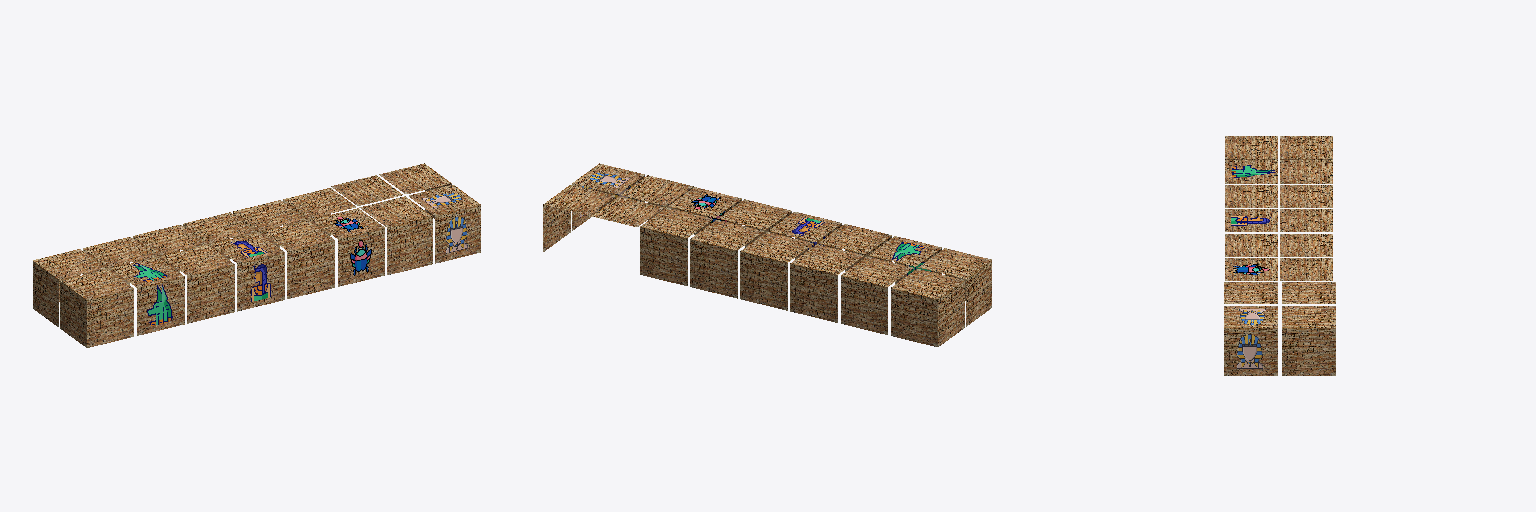
3 renders of one model, left to right at view 1: azimuth 30°, elevation 25°; view 2: azimuth 150°, elevation 25°; view 3: azimuth 270°, elevation 25°, orthographic.
Parts seen in each view (by area): view 1: laberintoCompletoEgipto_Box763; view 2: laberintoCompletoEgipto_Box763; view 3: laberintoCompletoEgipto_Box763.
Part boxes in pixels (left/top/right/bottom): laberintoCompletoEgipto_Box763: left=33, top=163, right=480, bottom=347; laberintoCompletoEgipto_Box763: left=543, top=163, right=991, bottom=346; laberintoCompletoEgipto_Box763: left=1224, top=136, right=1335, bottom=375.
Size of the model in its own units: 17.27 by 2.02 by 4.28.
5 materials, 5 textured.